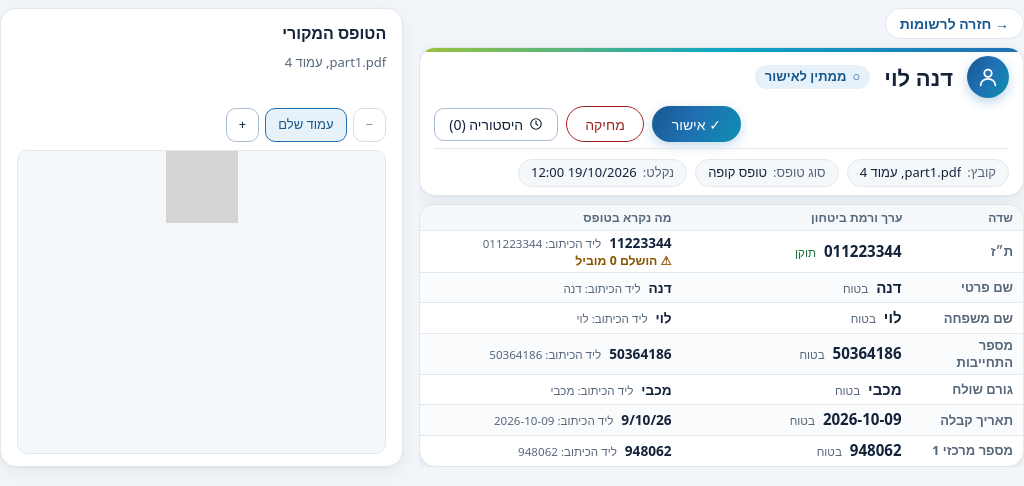
Scenario: RecordPage › a ready record is approved, and then it's read-only
Expected: the heading "דנה לוי" is shown, x1=884 y1=64 x2=953 y2=90
What coordinates should you click on to do the following:
click the button "✓ אישור"
I would click on:
 (696, 124)
Its box is x1=652 y1=106 x2=741 y2=142.
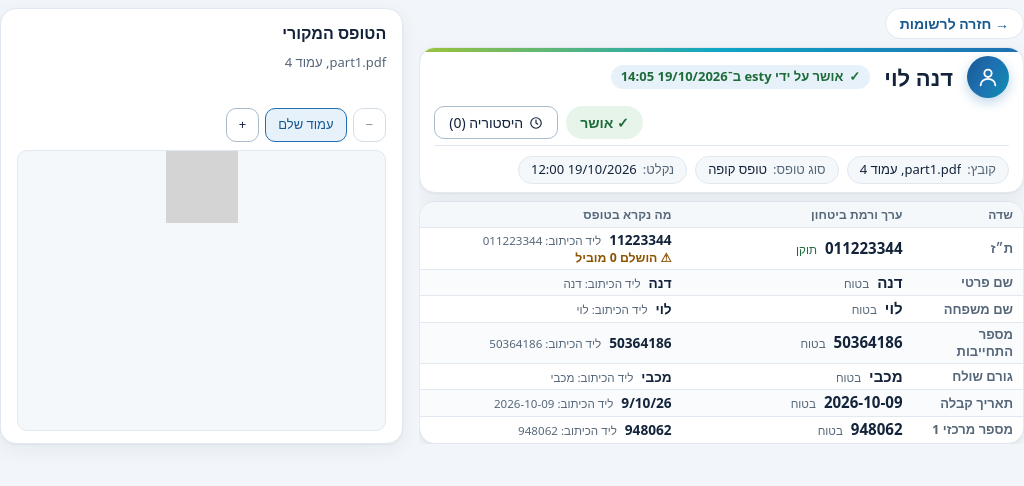
Result: the text "✓ אושר על ידי esty ב־19/10/2026 14:05" is shown at x1=611 y1=65 x2=870 y2=89
